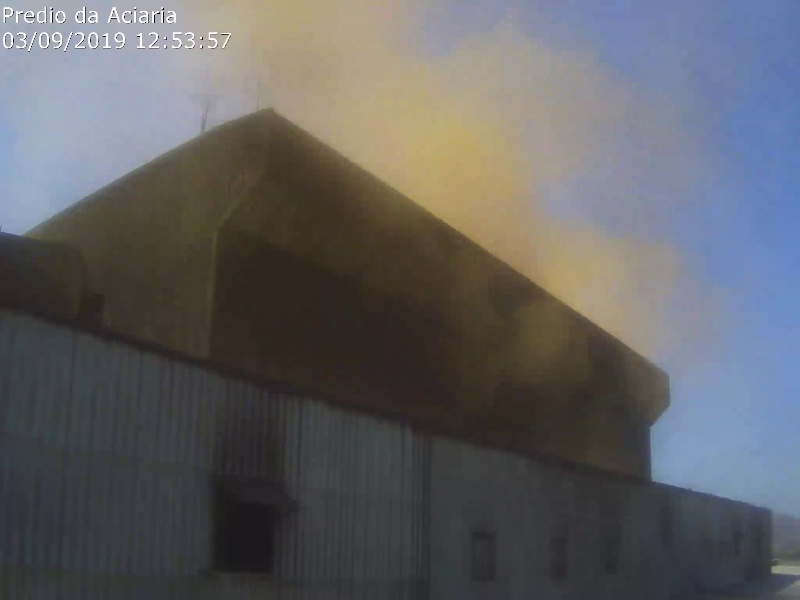Pessimo: (251, 7, 367, 77), (299, 59, 415, 129), (365, 98, 481, 168), (416, 12, 532, 82), (440, 56, 556, 126), (423, 138, 539, 208), (484, 180, 600, 250), (542, 216, 658, 286), (512, 96, 628, 166), (588, 265, 650, 314)
